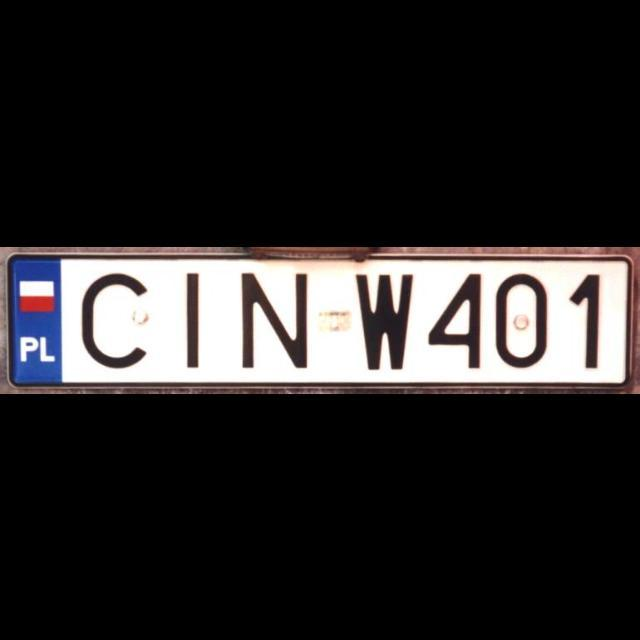license-plates: (9, 254, 633, 387)
